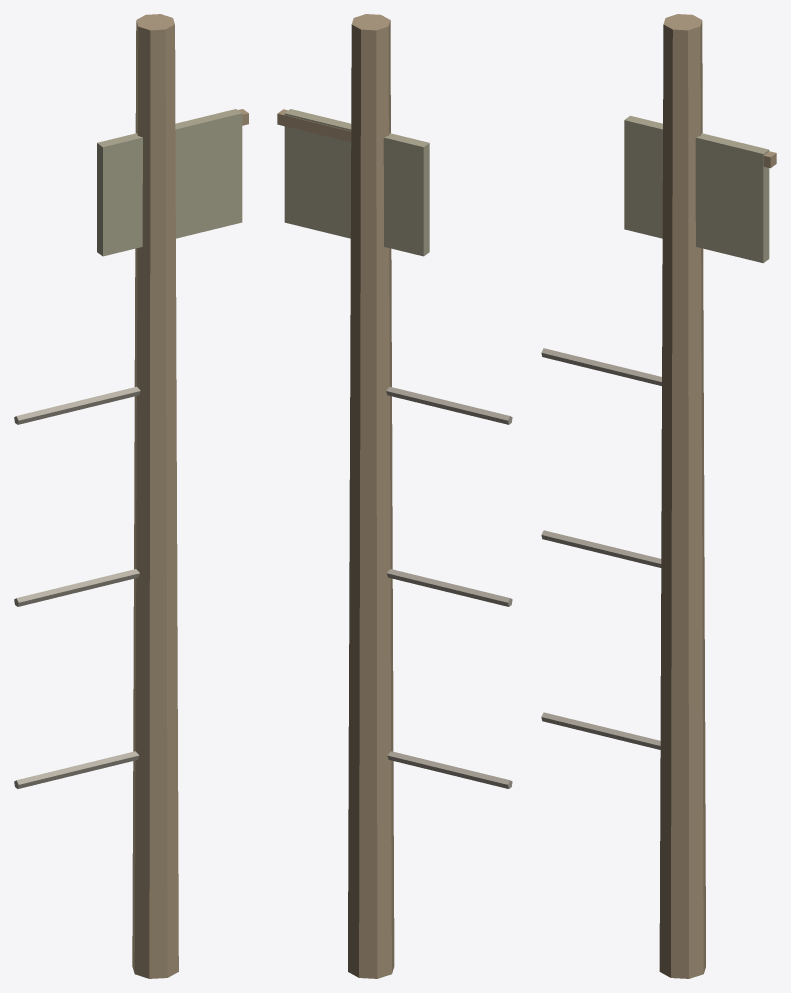
The model's file is trench-line-1917-signal-post-e765aeac__24060.glb.
The picture shows the model from 3 angles, left to right: view 1: azimuth 30°, elevation 25°; view 2: azimuth 150°, elevation 25°; view 3: azimuth 330°, elevation 25°; orthographic projection.
Parts seen in each view (by area): view 1: signal-post; view 2: signal-post; view 3: signal-post.
Boxes of the visible parts, left/top/right/bottom form: signal-post: left=14, top=14, right=248, bottom=978; signal-post: left=277, top=14, right=512, bottom=978; signal-post: left=541, top=14, right=776, bottom=978.
Size of the model in its own units: 0.66 by 2.6 by 0.12.
